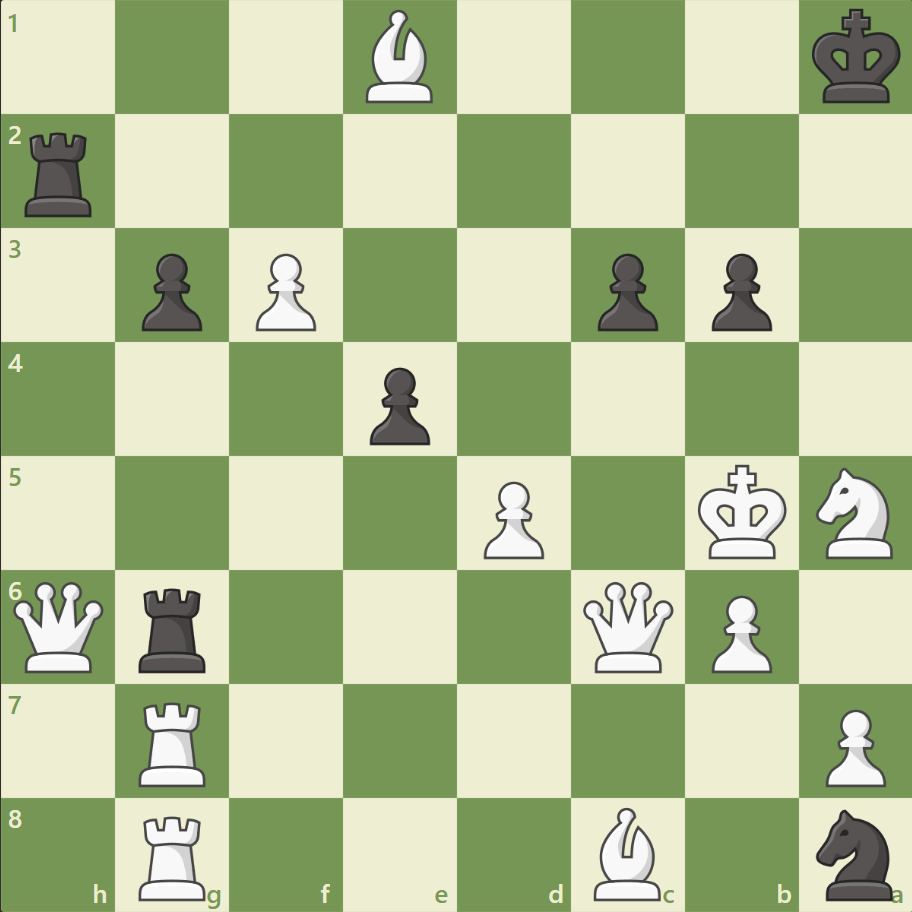B: (585, 801, 669, 904), (358, 6, 442, 109)
K: (692, 458, 792, 566)
N: (806, 461, 903, 564)
P: (701, 586, 776, 677), (474, 473, 549, 564), (247, 246, 322, 337), (815, 700, 889, 791)
Q: (578, 576, 677, 676), (10, 576, 109, 676)
R: (133, 806, 215, 904), (133, 693, 215, 790)
k: (806, 4, 906, 112)
n: (806, 802, 903, 904)
p: (701, 246, 776, 337), (133, 246, 208, 337), (361, 359, 435, 450), (588, 246, 662, 337)
r: (19, 125, 102, 222), (133, 579, 215, 676)
